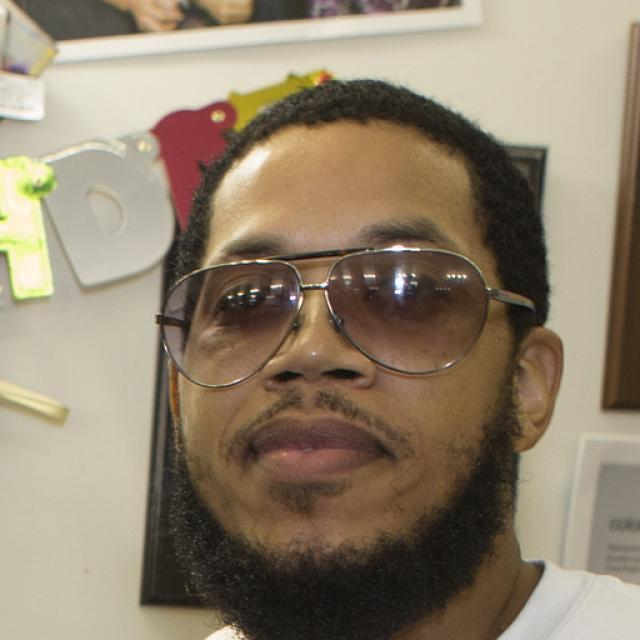neutral: (172, 121, 508, 579)
